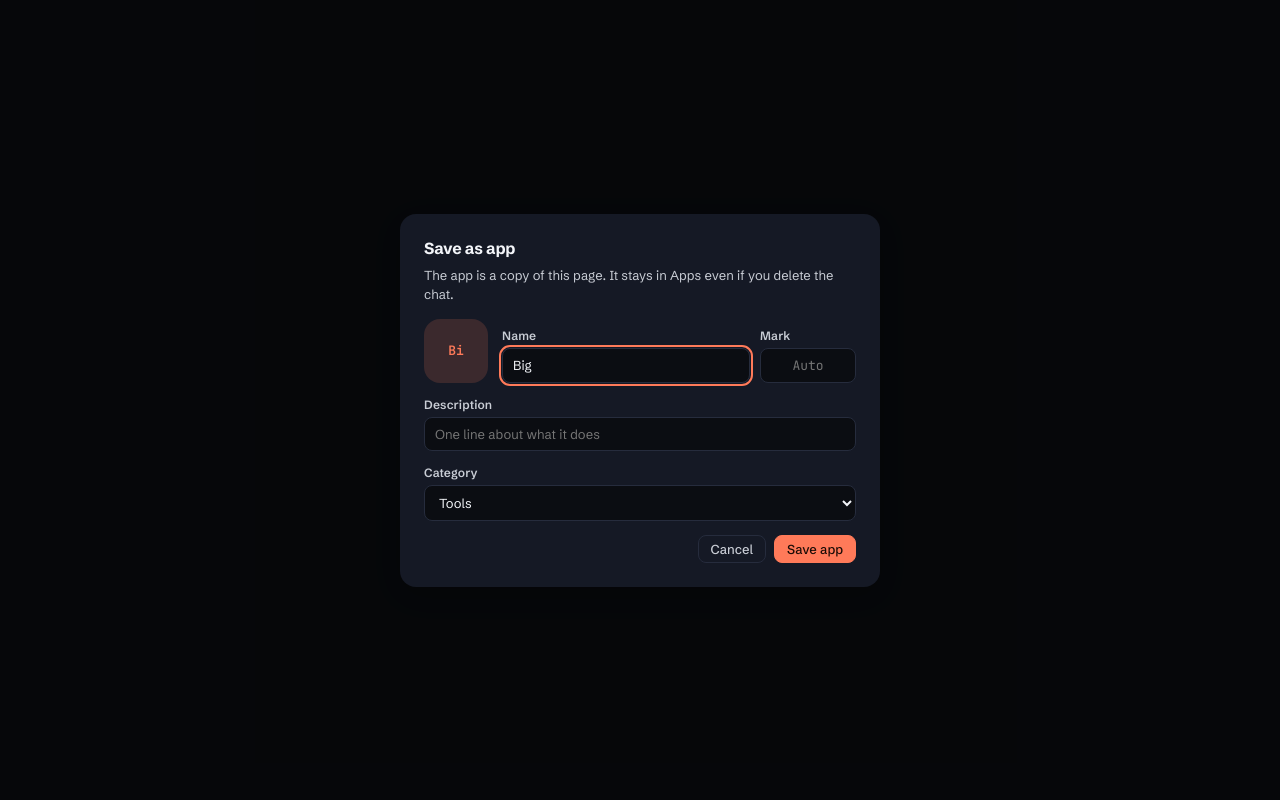
Test: AppDetailsDialog › shows why a save failed and stays open
What coordinates should you click on to do the following:
click the button "Save app"
I would click on:
 (815, 548)
Its box is [774,534,856,562].
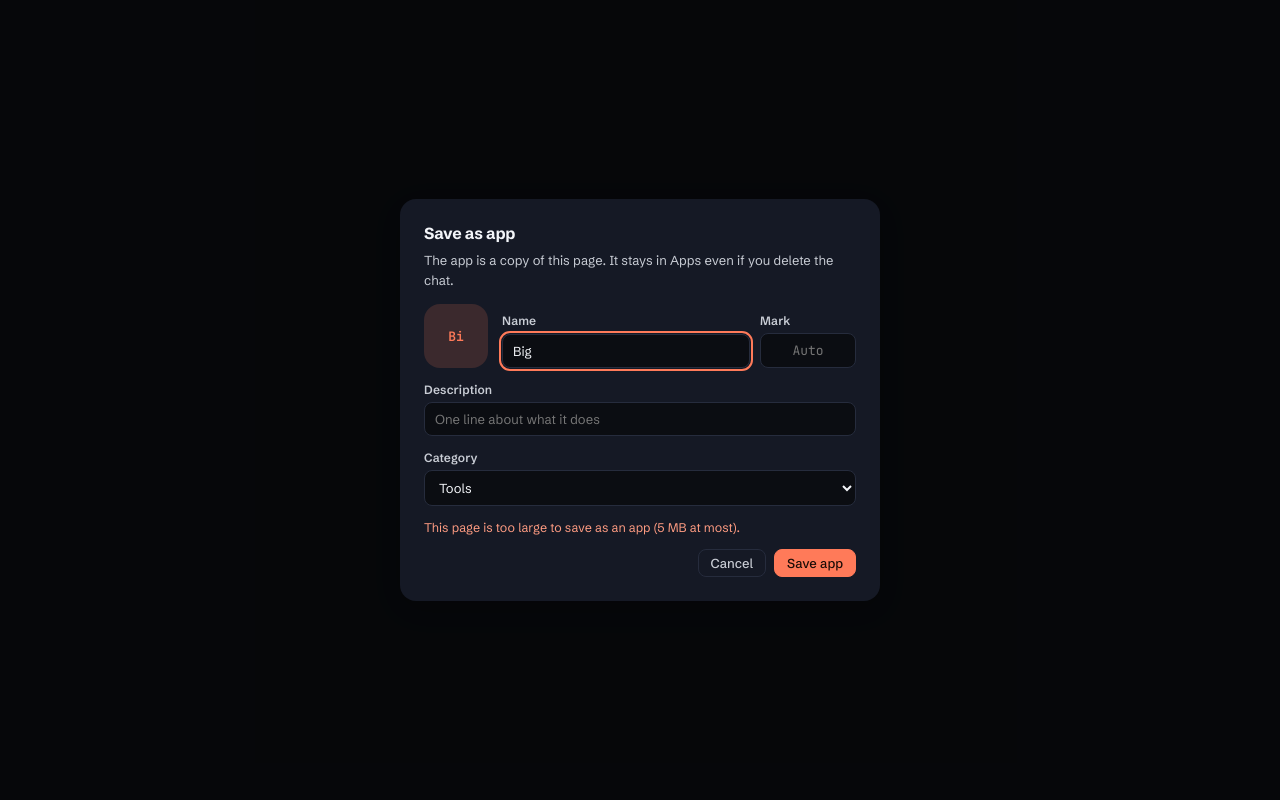
Now the message shows "too large", box [424,520,740,535]
